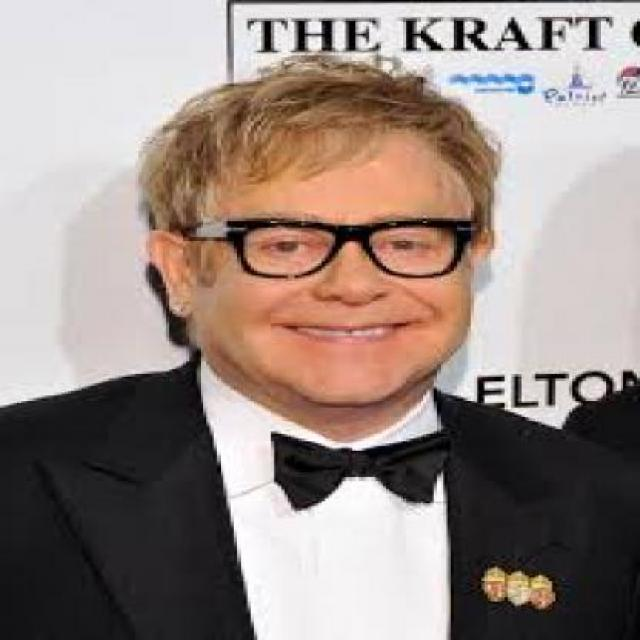mask: (200, 210, 494, 284)
